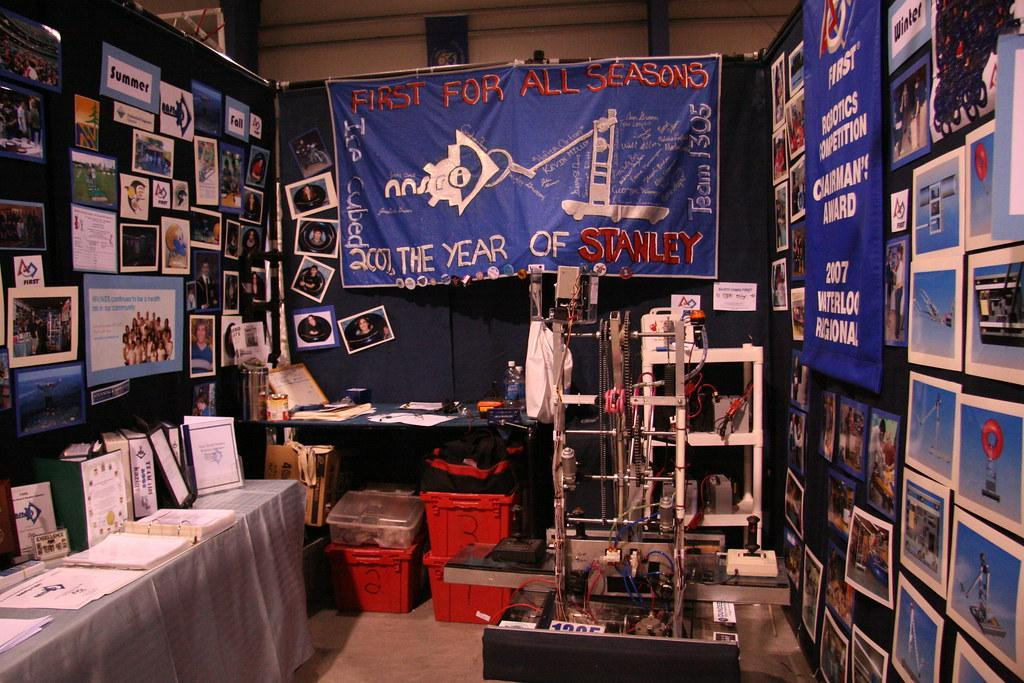robot: (483, 263, 746, 679)
